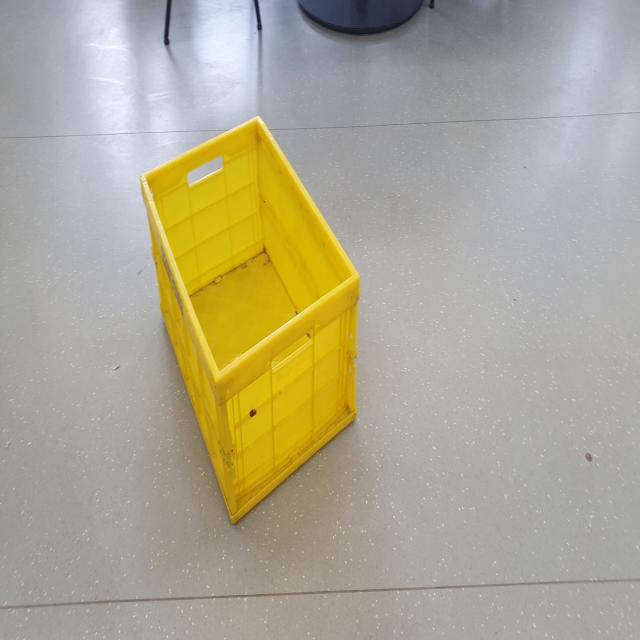box: (127, 107, 367, 541)
